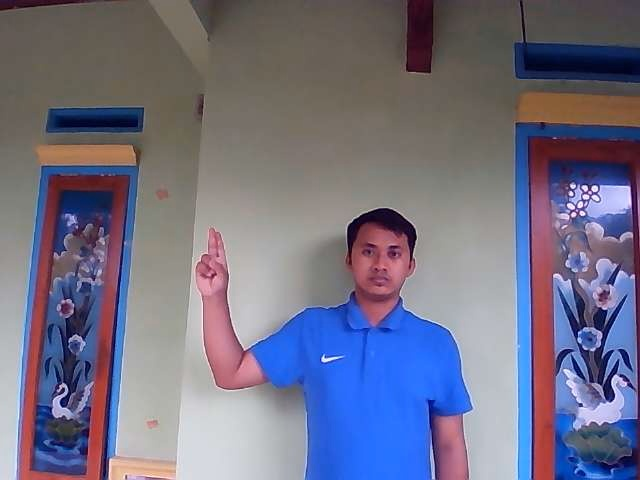U: (194, 227, 230, 297)
